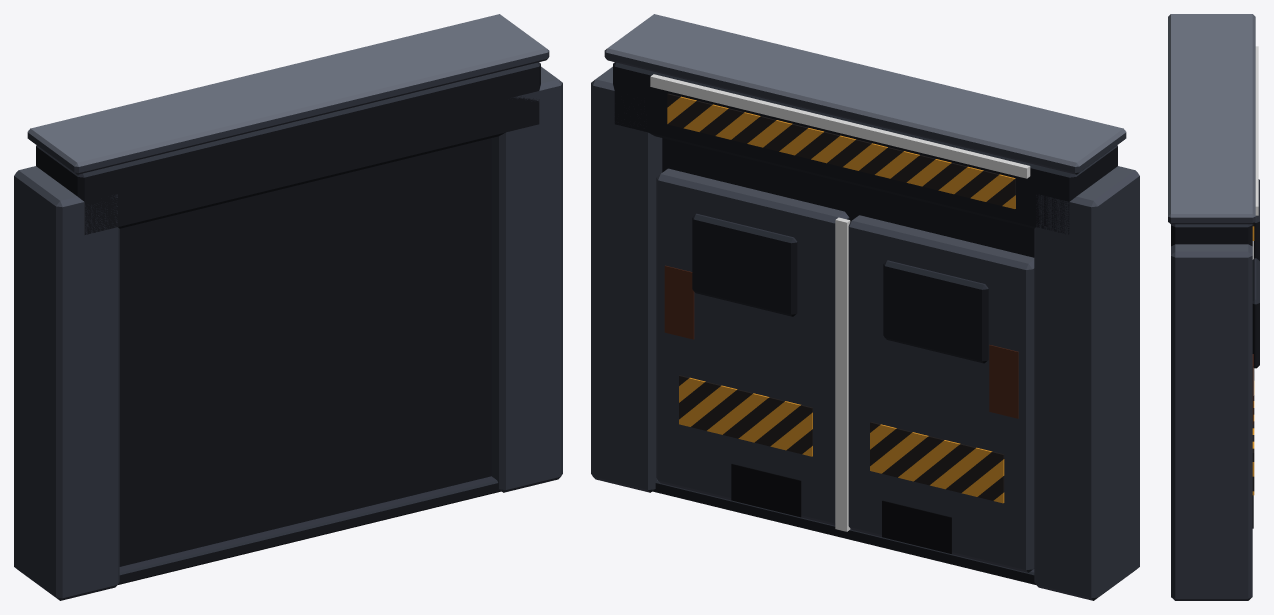
Rendered from BossGate.fbx.
3 views of the same model, side by side, from view 1: azimuth 30°, elevation 25°; view 2: azimuth 150°, elevation 25°; view 3: azimuth 270°, elevation 25° (orthographic). The views are drawn at different scales.
Parts seen in each view (by area): view 1: Body; view 2: Body, Seam_Glow; view 3: Body, Seam_Glow.
Boxes of the visible parts, x1,y1,x2,y2 form: Body: (14,14,562,600); Body: (591,14,1139,600); Seam_Glow: (650,74,1030,531); Body: (1168,14,1259,600); Seam_Glow: (1252,46,1258,395).
Size of the model in its own units: 17.5 by 14.4 by 3.15.
